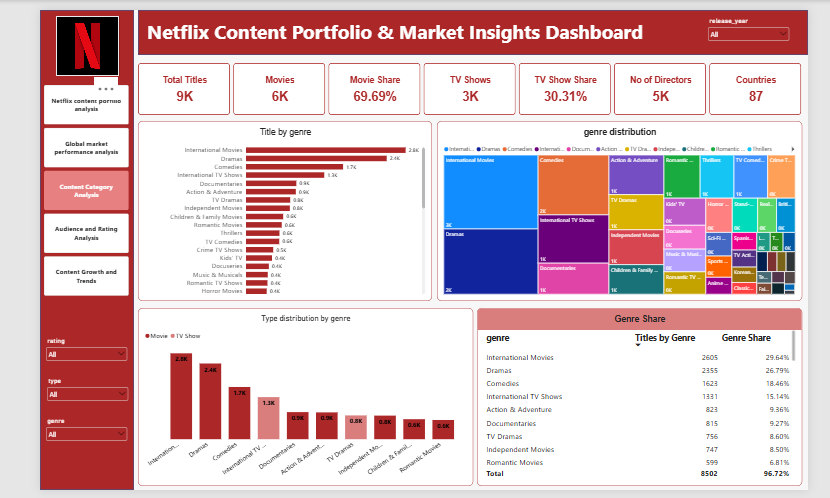

The page's visual inventory and layout, read from the dashboard file:
{"tool":"powerbi","page":{"name":"Content Category Analysis","canvas":[1920,1200],"ordinal":2},"visuals":[{"type":"shape","box":[245,0,1675,112.5],"z":0},{"type":"shape","box":[0,0,235,1200],"z":1000},{"type":"cardVisual","fields":{"Data":["Netflix Titles.Total Titles","Netflix Titles.Movies","Netflix Titles.Movie Share","Netflix Titles.TV Shows","Netflix Titles.TV Show Share","Netflix Titles.No of Directors","Netflix Titles.Countries"]},"box":[245,132.5,1660,130],"z":2000},{"type":"barChart","title":"Title by genre","fields":{"Category":["Genre bridge.genre"],"Y":["Genre bridge.Titles by Genre"]},"box":[245,277.5,735,450],"z":3000},{"type":"treemap","title":"genre distribution","fields":{"Group":["Genre bridge.genre"],"Values":["Genre bridge.Titles by Genre"]},"box":[992.5,277.5,912.5,450],"z":4000},{"type":"columnChart","title":"Type distribution by genre","fields":{"Category":["Genre bridge.genre"],"Series":["Netflix Titles.type"],"Y":["Genre bridge.Titles by Genre"]},"box":[245,745,837.5,445],"z":5000},{"type":"tableEx","title":"Genre Share","fields":{"Values":["Genre bridge.genre","Genre bridge.Titles by Genre","Genre bridge.Genre Share"]},"box":[1092.5,745,812.5,445],"z":6000},{"type":"textbox","box":[267.5,20,1367.5,75],"z":7000},{"type":"pageNavigator","box":[10,187.5,212.5,530],"z":8000},{"type":"image","box":[40,15,157.5,150],"z":9000},{"type":"slicer","fields":{"Values":["Netflix Titles.rating"]},"box":[10,817.5,212.5,72.5],"z":10000},{"type":"slicer","fields":{"Values":["Netflix Titles.type"]},"box":[12.5,917.5,212.5,72.5],"z":11000},{"type":"slicer","fields":{"Values":["Genre bridge.genre"]},"box":[10,1017.5,212.5,72.5],"z":12000},{"type":"slicer","fields":{"Values":["Netflix Titles.release_year"]},"box":[1665,17.5,212.5,72.5],"z":13000}]}

Visuals, with their boxes on the page's 1920x1200 design canvas (x1, y1, x2, y2). These are canvas units, not pixel positions in the 830x498 screenshot, which may show the page scaled, cropped or inside an application window:
shape: (left=245, top=0, right=1920, bottom=112)
shape: (left=0, top=0, right=235, bottom=1200)
cardVisual - Netflix Titles.Total Titles x Netflix Titles.Movies: (left=245, top=132, right=1905, bottom=262)
"Title by genre" barChart: (left=245, top=278, right=980, bottom=728)
"genre distribution" treemap: (left=992, top=278, right=1905, bottom=728)
"Type distribution by genre" columnChart: (left=245, top=745, right=1082, bottom=1190)
"Genre Share" tableEx: (left=1092, top=745, right=1905, bottom=1190)
textbox: (left=268, top=20, right=1635, bottom=95)
pageNavigator: (left=10, top=188, right=222, bottom=718)
image: (left=40, top=15, right=198, bottom=165)
slicer - Netflix Titles.rating: (left=10, top=818, right=222, bottom=890)
slicer - Netflix Titles.type: (left=12, top=918, right=225, bottom=990)
slicer - Genre bridge.genre: (left=10, top=1018, right=222, bottom=1090)
slicer - Netflix Titles.release_year: (left=1665, top=18, right=1878, bottom=90)
